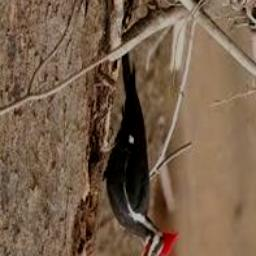Woodpecker: (104, 51, 179, 256)
